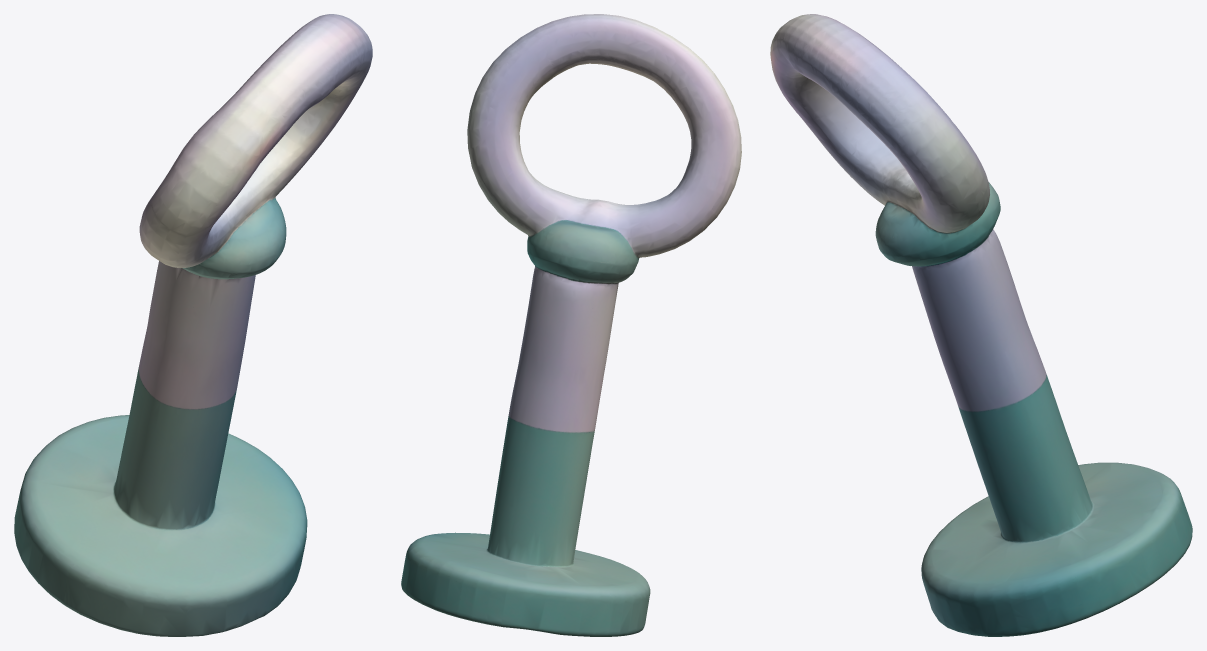
File: scanner.glb
The picture shows the model from 3 angles, left to right: view 1: azimuth 30°, elevation 25°; view 2: azimuth 150°, elevation 25°; view 3: azimuth 270°, elevation 25°; orthographic projection. The views are drawn at different scales.
Bounding box in the file's own units: 0.3634 × 0.8534 × 0.549.
Materials: 1 (1 with a texture image).
